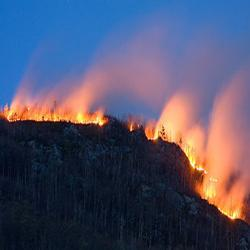fire: (11, 106, 102, 123), (185, 146, 202, 169), (206, 173, 217, 202)
